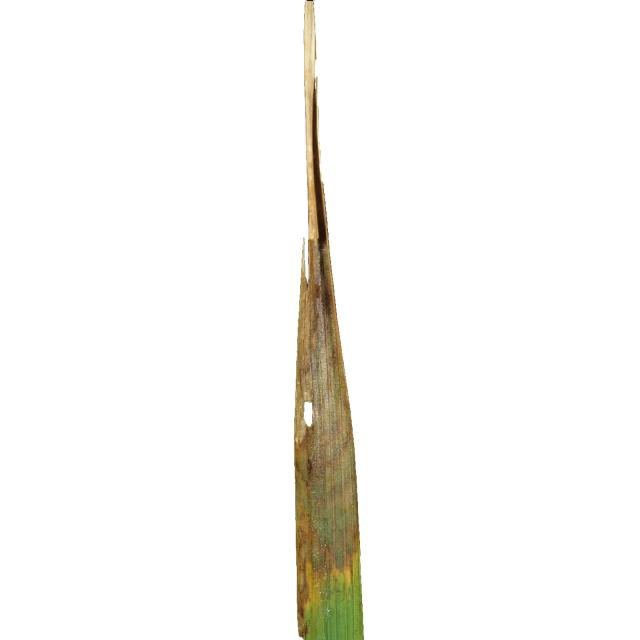Leaf scald: (245, 0, 464, 640)
